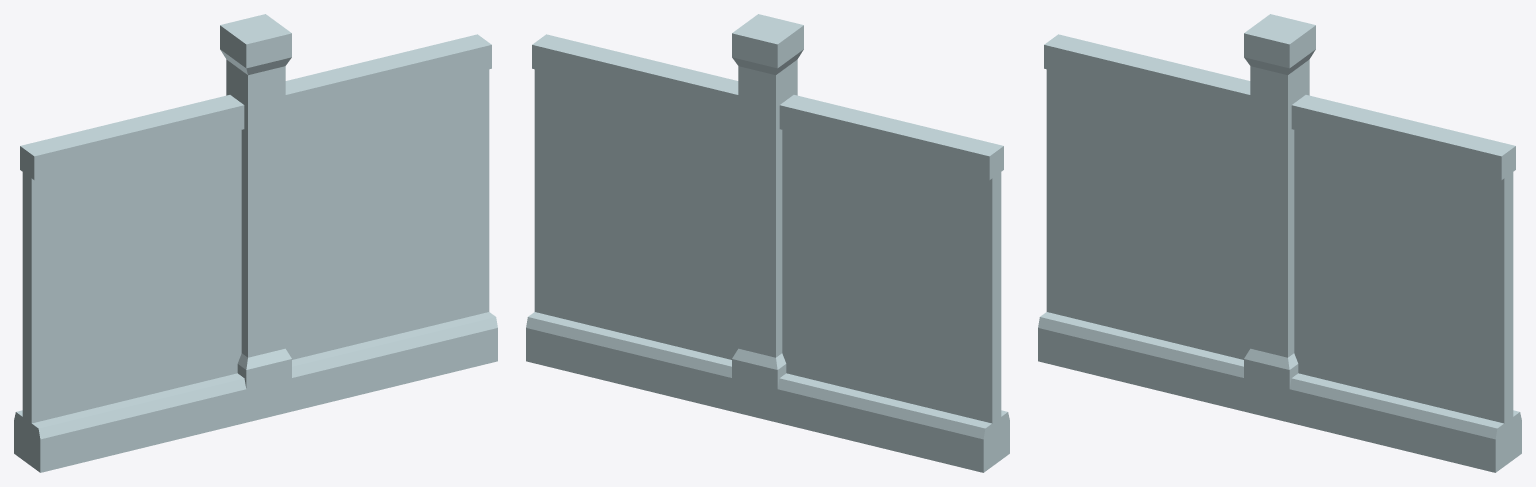
The model's file is stoneWallColumn.glb.
The picture shows the model from 3 angles, left to right: view 1: azimuth 30°, elevation 25°; view 2: azimuth 150°, elevation 25°; view 3: azimuth 330°, elevation 25°; orthographic projection.
Parts seen in each view (by area): view 1: stoneWallColumn; view 2: stoneWallColumn; view 3: stoneWallColumn.
Part boxes in pixels (bbox=[...]): stoneWallColumn: bbox=[14, 14, 497, 472]; stoneWallColumn: bbox=[526, 14, 1009, 472]; stoneWallColumn: bbox=[1038, 14, 1521, 472].
Bounding box in the file's own units: 1 × 0.79 × 0.1.
